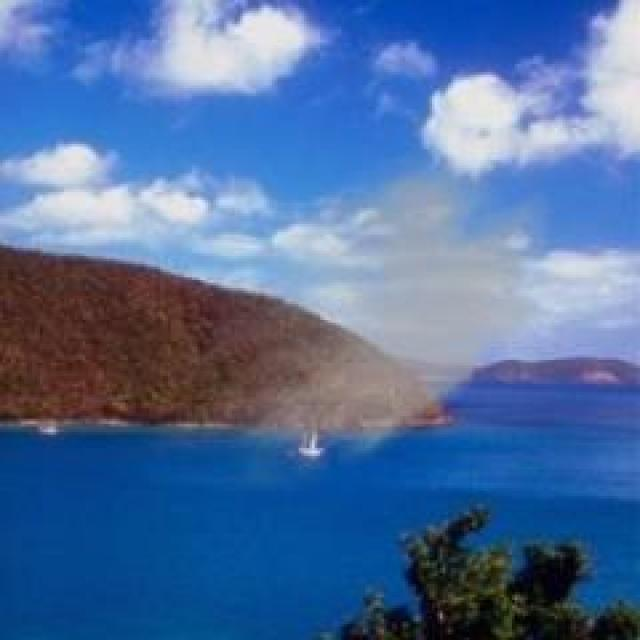Smoke: (225, 165, 543, 470)
